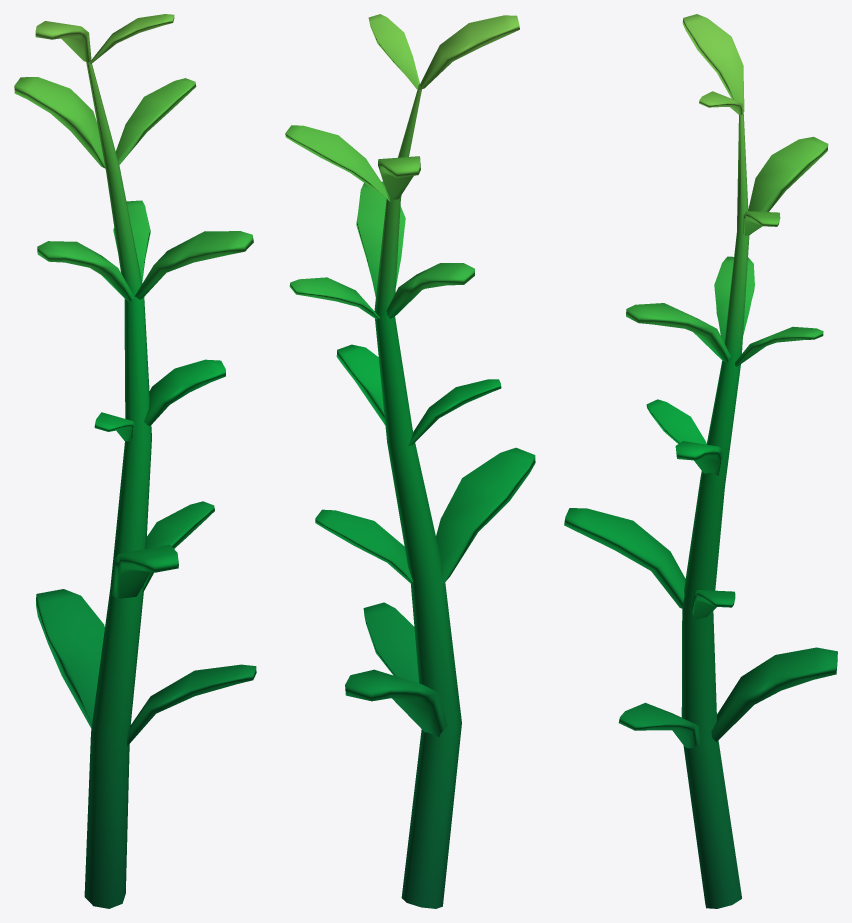
The model's file is Plant_004.fbx.
The picture shows the model from 3 angles, left to right: view 1: azimuth 30°, elevation 25°; view 2: azimuth 150°, elevation 25°; view 3: azimuth 270°, elevation 25°; orthographic projection. The views are drawn at different scales.
Visible parts, largest first — view 1: Plant_004; view 2: Plant_004; view 3: Plant_004.
Boxes of the visible parts, left/top/right/bottom form: Plant_004: left=14, top=14, right=256, bottom=908; Plant_004: left=285, top=14, right=535, bottom=908; Plant_004: left=564, top=14, right=837, bottom=908.
Bounding box in the file's own units: 17.55 × 22.48 × 77.32.
